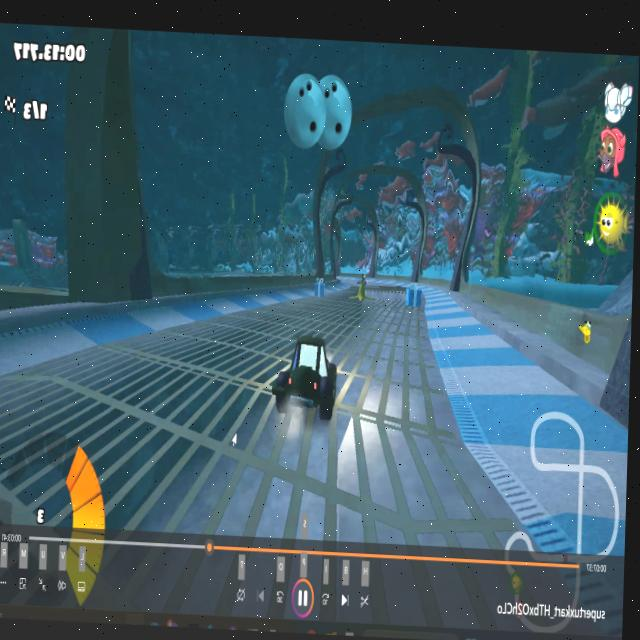bonus: (403, 283, 426, 310), (313, 275, 327, 296)
obstacle: (349, 279, 370, 311)
player_kart: (270, 334, 343, 417)
track: (0, 423, 468, 550), (2, 330, 269, 440), (337, 354, 434, 442), (218, 299, 344, 339), (344, 304, 424, 358), (370, 280, 402, 302)
